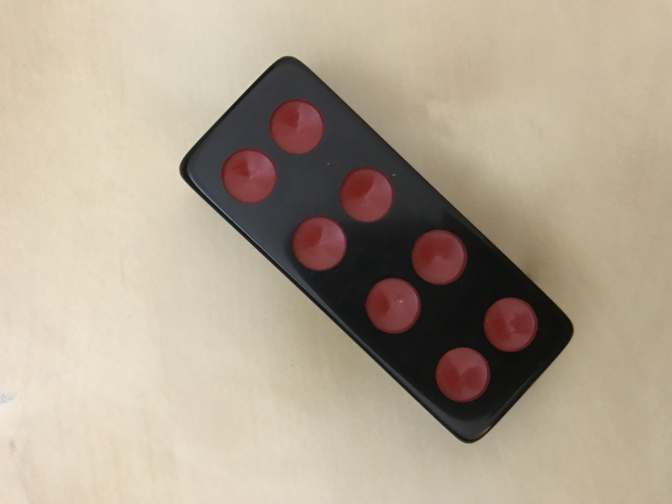man: (179, 55, 575, 443)
